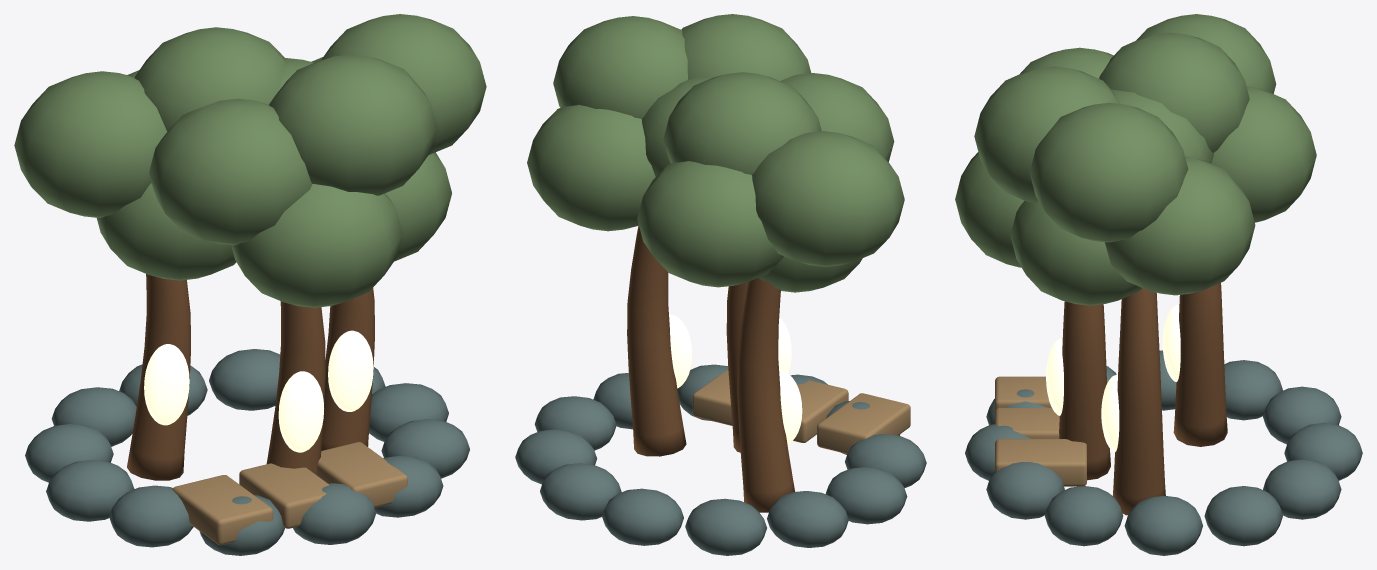
File: deposit_resin.glb
3 views of the same model, side by side, from view 1: azimuth 30°, elevation 25°; view 2: azimuth 150°, elevation 25°; view 3: azimuth 270°, elevation 25° (orthographic). The views are drawn at different scales.
Parts seen in each view (by area): view 1: deposit_resin_part_0; view 2: deposit_resin_part_0; view 3: deposit_resin_part_0.
Part boxes in pixels (left/top/right/bottom): deposit_resin_part_0: left=14, top=14, right=486, bottom=555; deposit_resin_part_0: left=515, top=14, right=926, bottom=555; deposit_resin_part_0: left=955, top=14, right=1362, bottom=555.
Size of the model in its own units: 3.6 by 3.8 by 3.32.
